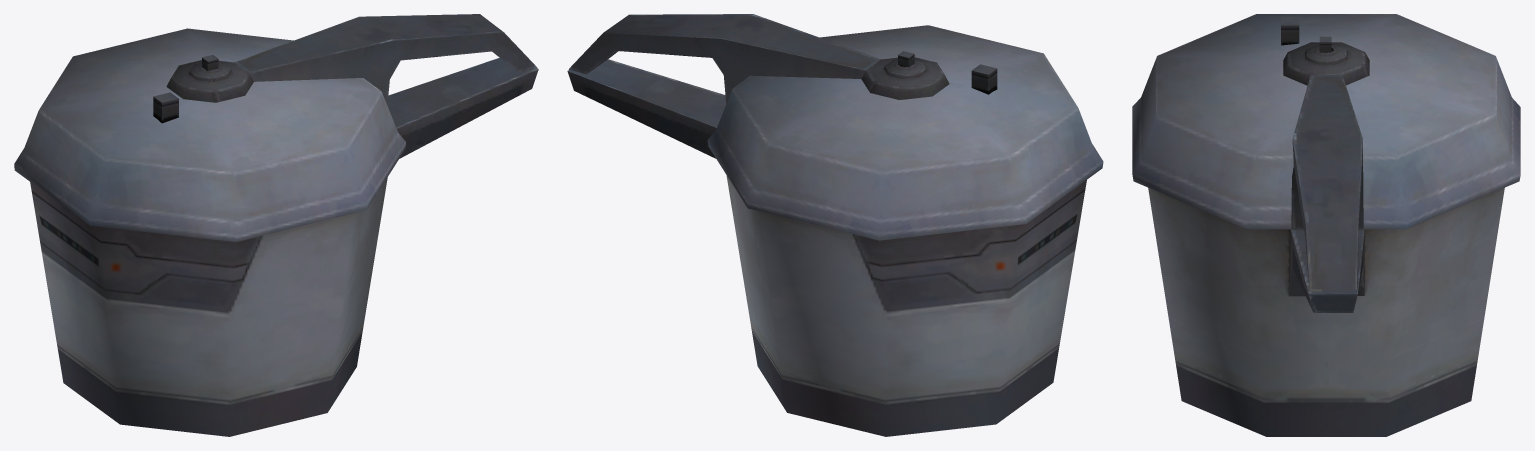
File: all_item_imp_cooking_item_01.glb
3 renders of one model, left to right at view 1: azimuth 30°, elevation 25°; view 2: azimuth 150°, elevation 25°; view 3: azimuth 270°, elevation 25°, orthographic. The views are drawn at different scales.
Parts seen in each view (by area): view 1: all_item_imp_cooking_item_01; view 2: all_item_imp_cooking_item_01; view 3: all_item_imp_cooking_item_01.
Part boxes in pixels (bbox=[...]): all_item_imp_cooking_item_01: bbox=[14, 14, 538, 436]; all_item_imp_cooking_item_01: bbox=[567, 14, 1103, 436]; all_item_imp_cooking_item_01: bbox=[1132, 14, 1520, 436].
Size of the model in its own units: 0.0539 by 0.0341 by 0.0358.
Materials: 1 (1 with a texture image).
